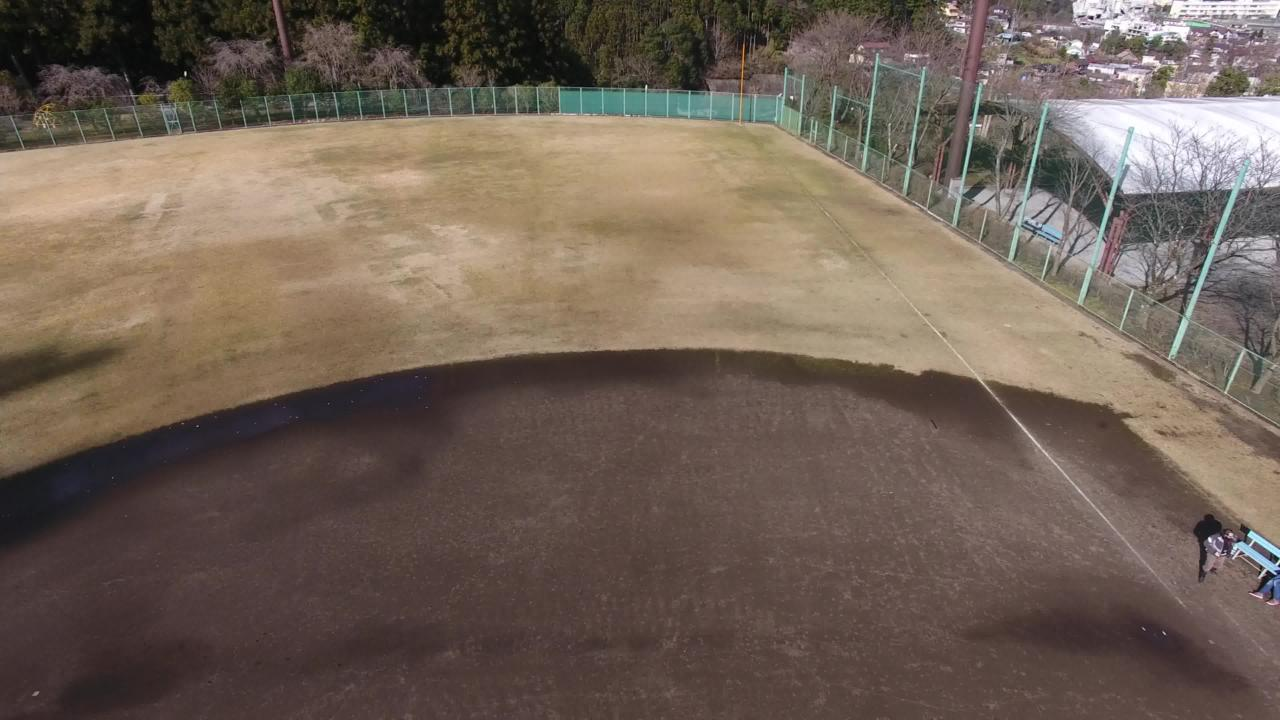person: (1198, 530, 1239, 598), (1253, 552, 1280, 616)
